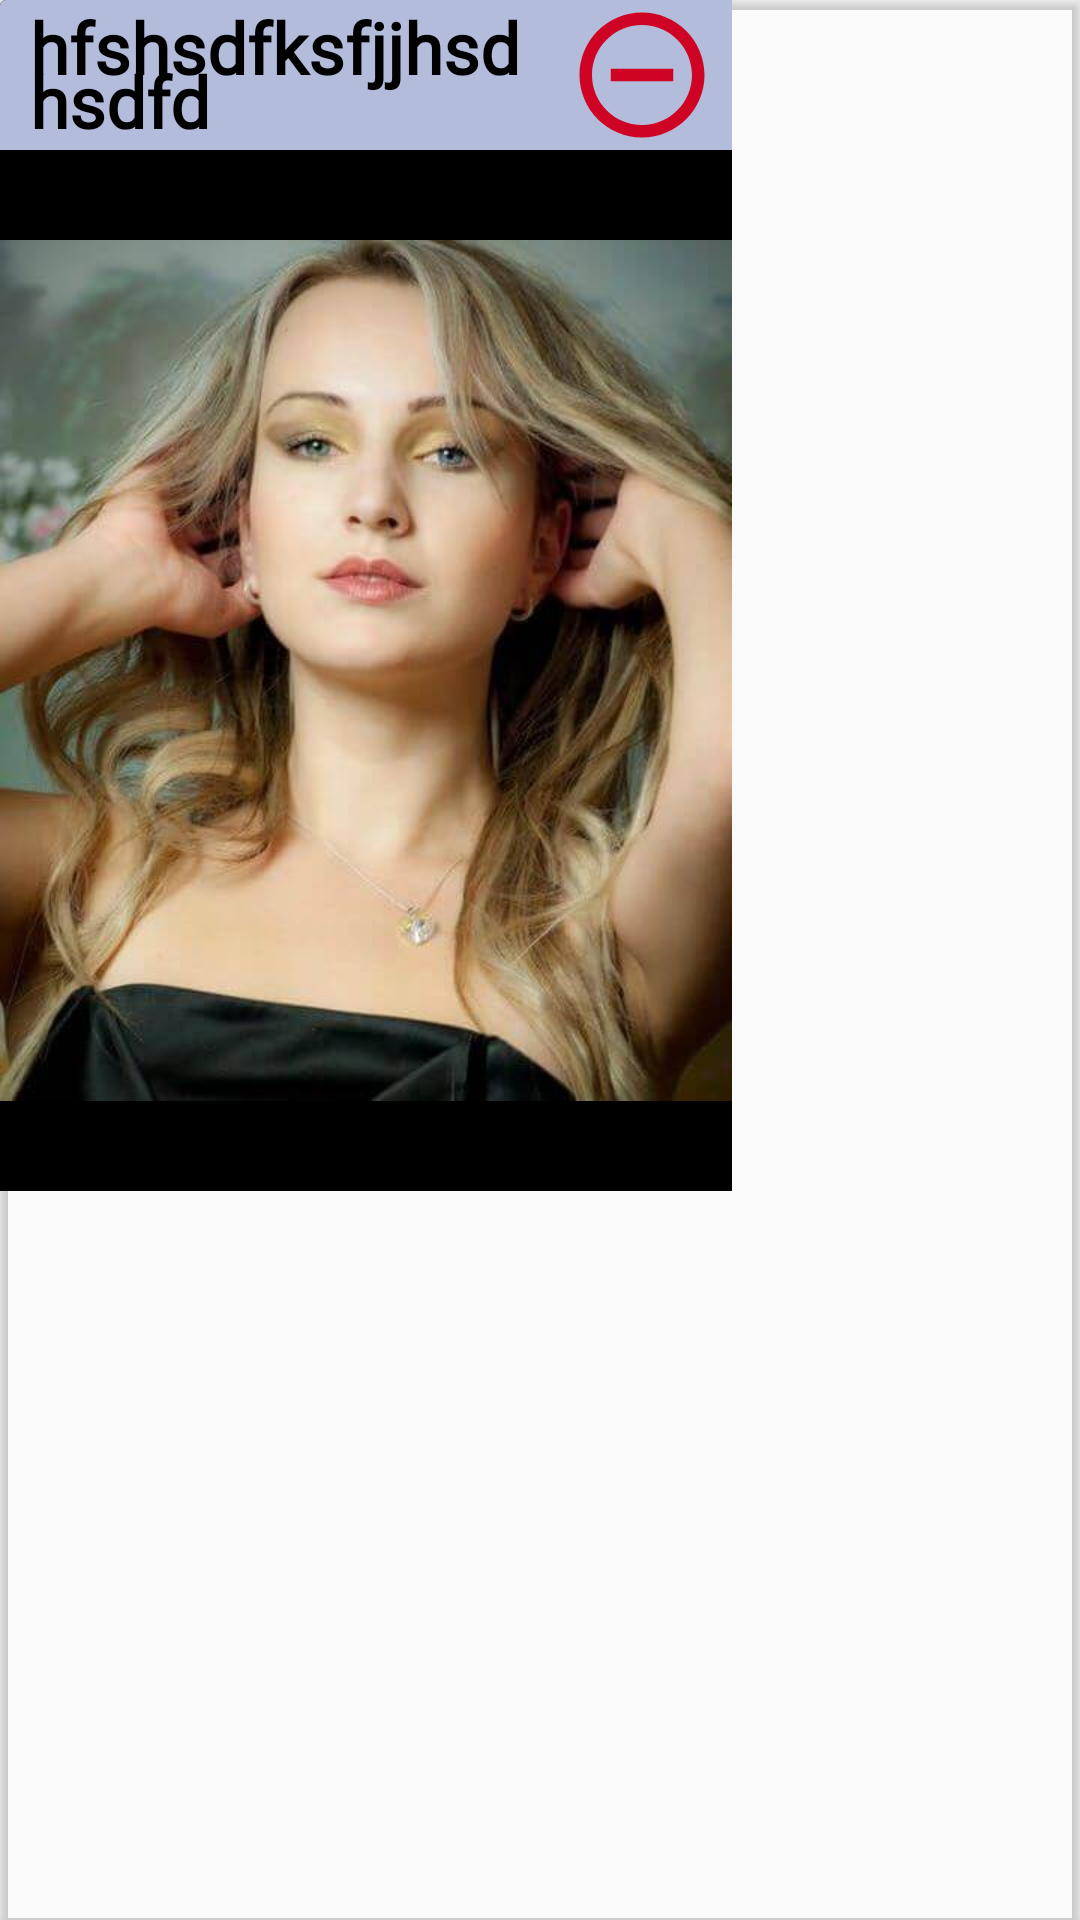

Locate icon controls on the screen. Image size 1080*1920, boxes as (x1, y1, x2, y2).
do disturb on: (579, 12, 705, 138)
